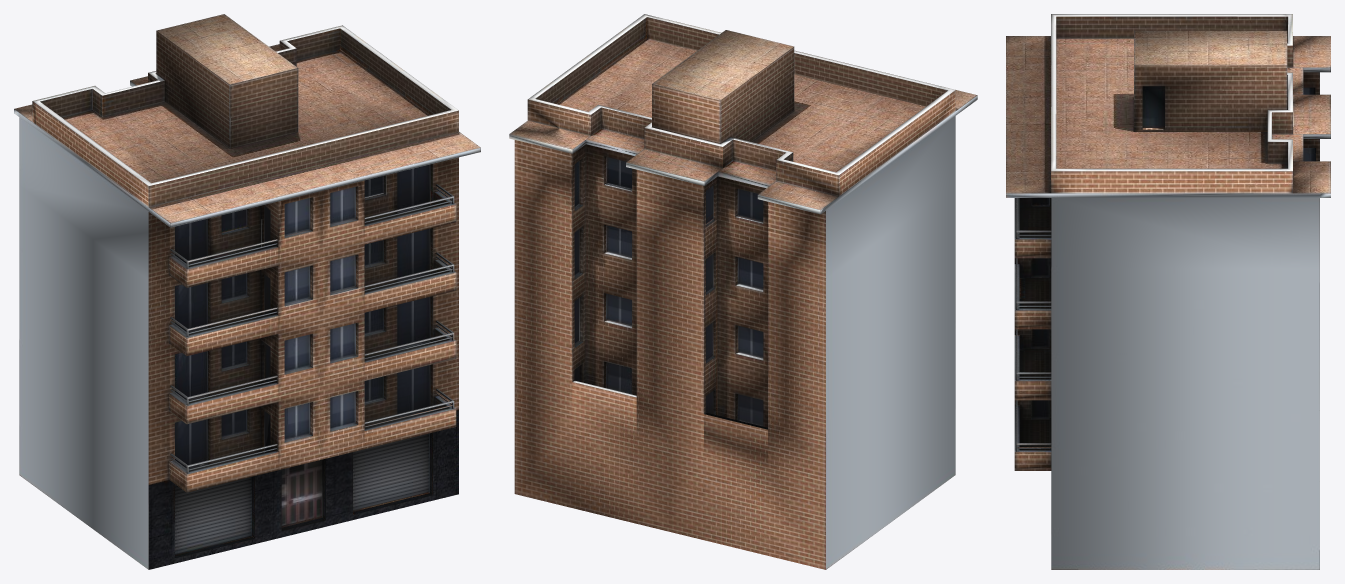
File: edifici_prat.glb
The picture shows the model from 3 angles, left to right: view 1: azimuth 30°, elevation 25°; view 2: azimuth 150°, elevation 25°; view 3: azimuth 270°, elevation 25°; orthographic projection. The views are drawn at different scales.
Visible parts, largest first — view 1: baseficio_Plane; view 2: baseficio_Plane; view 3: baseficio_Plane.
Boxes of the visible parts, box(x1,y1,x2,y2) form: baseficio_Plane: box(14, 14, 480, 569); baseficio_Plane: box(509, 14, 977, 569); baseficio_Plane: box(1006, 14, 1330, 569).
Bounding box in the file's own units: 15.23 × 20.01 × 13.3.
1 material, 1 textured.
